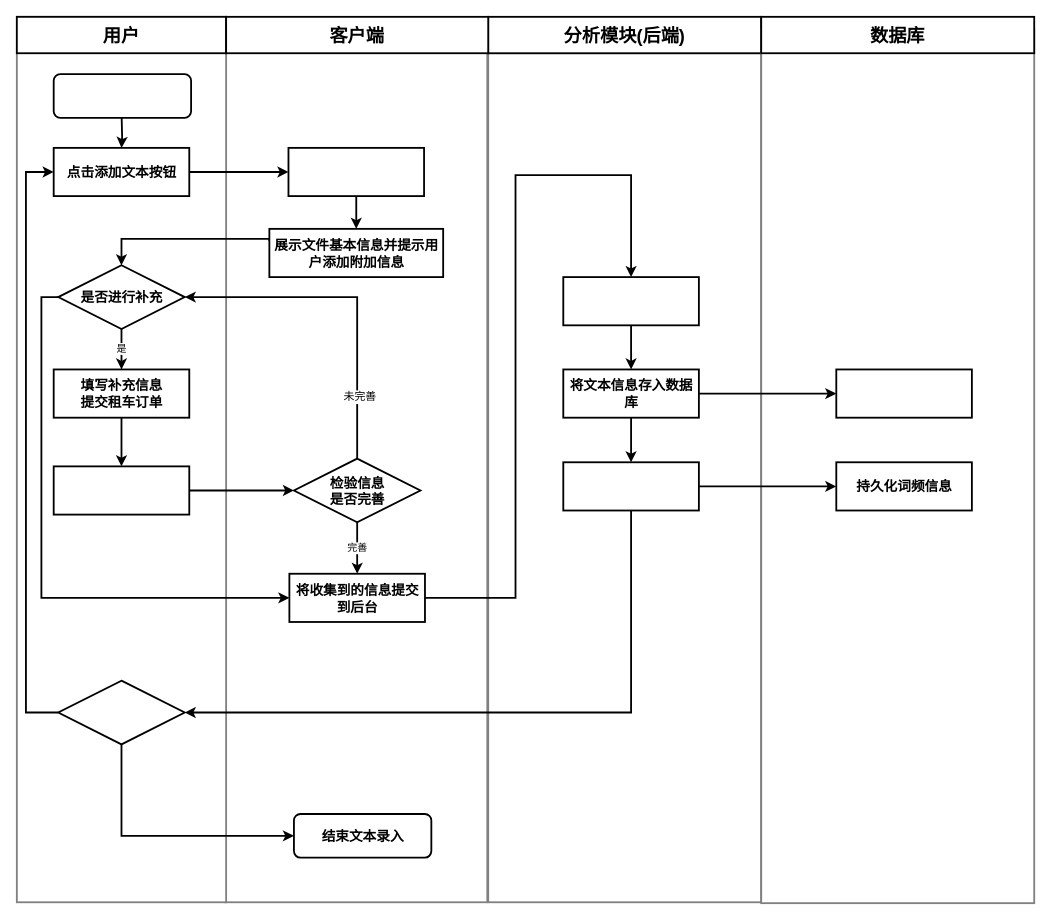
Some shapes in this 1050 by 919 pixel diagram are drawn without their labels. The shapes that lost their labels are listed below. From the top down, each one's box as (x1, y1, x2, y2) in pixels, then its label:
(52, 73, 192, 118): 登录客户端
(287, 147, 425, 197): 加载文件读取文件名
(562, 276, 699, 326): 异常处理
(835, 368, 972, 418): 持久化文本基本信息
(52, 465, 190, 515): 提交补充信息
(562, 461, 699, 511): 分析文本词频
(57, 679, 185, 745): 是否输入 其他文本
